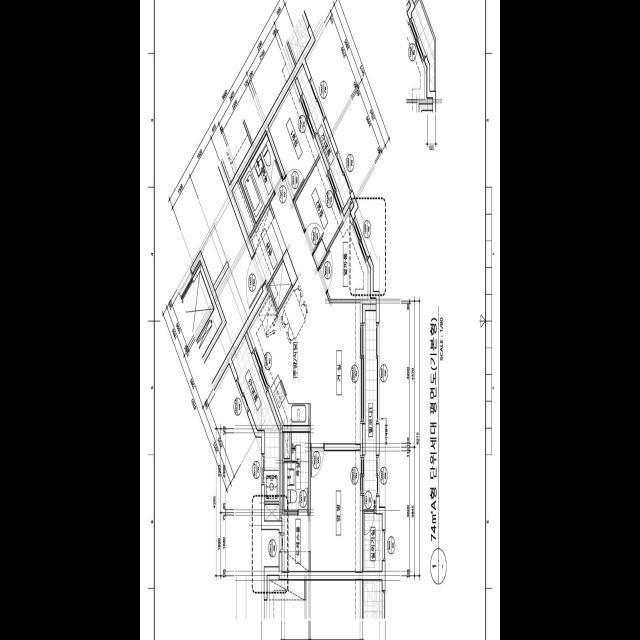background: (140, 0, 500, 640)
space_balconi: (232, 335, 279, 501), (297, 64, 351, 206), (364, 310, 376, 509)
space_bedroom: (310, 451, 362, 571), (268, 79, 320, 198), (295, 154, 344, 252)
space_dressroom: (282, 514, 309, 571)
space_elevator: (181, 260, 222, 357)
space_elevator_hall: (167, 166, 263, 383)
space_front: (250, 204, 287, 285)
space_kitchen: (247, 279, 311, 425)
space_living_room: (270, 178, 362, 443)
space_other: (319, 209, 368, 299), (232, 180, 255, 236), (270, 260, 292, 308), (265, 504, 279, 520), (284, 432, 290, 457)
space_outdoor_room: (364, 514, 382, 571)
space_toilet: (240, 133, 282, 223), (284, 432, 309, 510)
